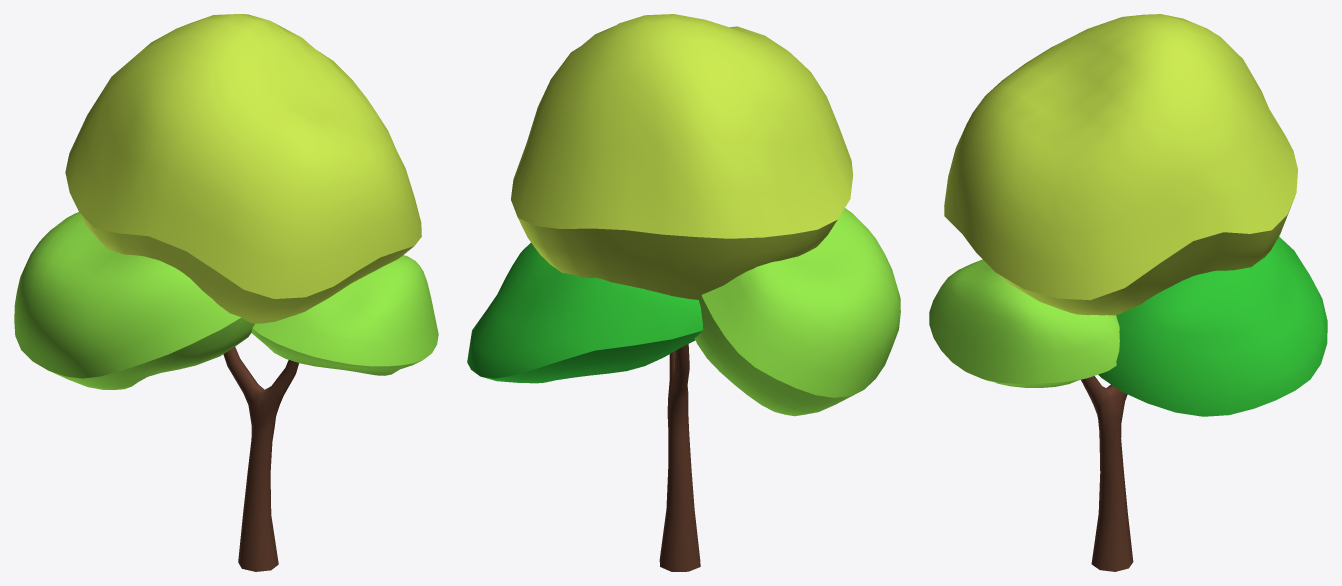
File: tree_07.fbx
3 views of the same model, side by side, from view 1: azimuth 30°, elevation 25°; view 2: azimuth 150°, elevation 25°; view 3: azimuth 270°, elevation 25° (orthographic). The views are drawn at different scales.
Parts seen in each view (by area): view 1: Cube.051; view 2: Cube.051; view 3: Cube.051.
Part boxes in pixels (bbox=[...]): Cube.051: bbox=[14, 14, 438, 571]; Cube.051: bbox=[467, 14, 900, 571]; Cube.051: bbox=[929, 14, 1327, 571].
Size of the model in its own units: 564 by 814 by 550.
